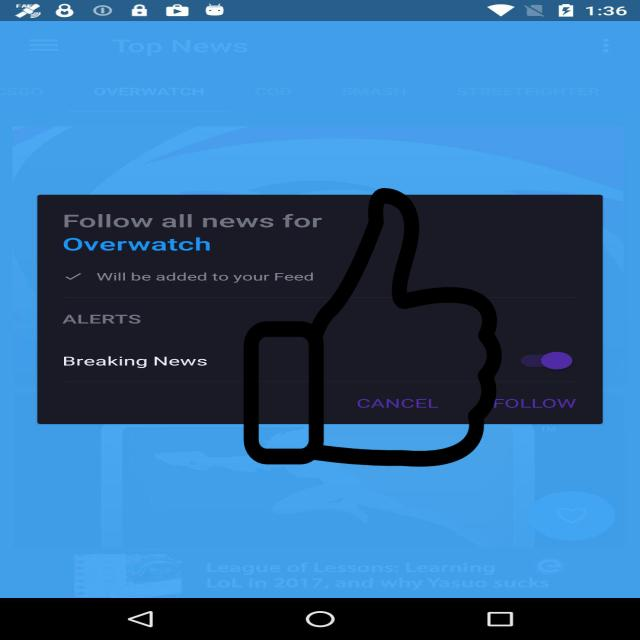privacy zuckering: (240, 188, 505, 467)
